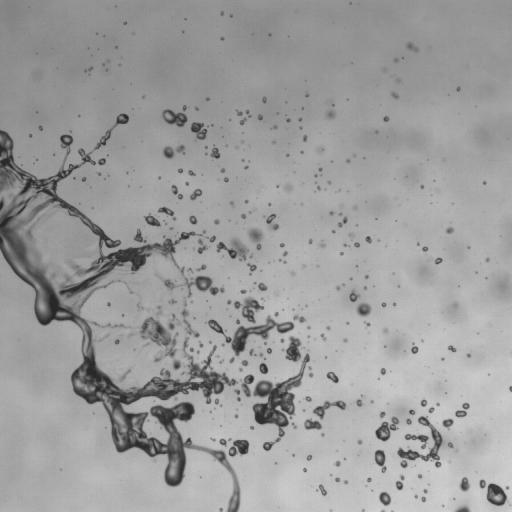droplet: (234, 336, 313, 450), (207, 296, 305, 363), (397, 416, 442, 468), (479, 479, 509, 506), (162, 105, 187, 126), (247, 227, 263, 249), (163, 145, 184, 158), (190, 122, 206, 139), (356, 302, 371, 316), (144, 213, 160, 226), (266, 214, 278, 231), (304, 419, 321, 429), (379, 491, 391, 505), (197, 239, 208, 253), (459, 477, 470, 491), (326, 372, 338, 383), (442, 418, 453, 429), (190, 189, 202, 199), (211, 146, 220, 158), (349, 291, 359, 301), (259, 362, 268, 373), (317, 484, 326, 495), (407, 42, 417, 51), (247, 263, 256, 273), (326, 110, 335, 119), (258, 282, 267, 291), (284, 183, 292, 192), (219, 438, 228, 446), (189, 216, 197, 224), (411, 344, 418, 353), (434, 257, 442, 264), (448, 345, 456, 352), (420, 398, 427, 406), (207, 236, 215, 242), (391, 92, 398, 98), (446, 227, 453, 233), (169, 298, 176, 304), (249, 349, 255, 356), (241, 360, 248, 366), (214, 398, 220, 405), (356, 399, 362, 406), (379, 411, 385, 418), (240, 118, 246, 124), (317, 147, 323, 153), (365, 236, 371, 242), (321, 333, 326, 340), (304, 396, 311, 401), (236, 110, 242, 115), (245, 110, 250, 116), (188, 170, 194, 175), (319, 242, 324, 248), (138, 303, 143, 309), (380, 368, 385, 374), (428, 407, 434, 412), (406, 418, 411, 424), (334, 461, 340, 466), (383, 116, 388, 121), (214, 219, 219, 224), (354, 242, 359, 247), (422, 246, 427, 251), (381, 302, 386, 307), (383, 328, 388, 333), (409, 409, 414, 414), (357, 439, 362, 444), (448, 442, 453, 447), (306, 455, 311, 460), (267, 348, 271, 354), (87, 67, 92, 71), (262, 97, 266, 102), (38, 125, 42, 130), (272, 125, 277, 129), (224, 177, 228, 182), (283, 251, 287, 256), (365, 322, 370, 326), (115, 339, 119, 344), (199, 342, 203, 347), (335, 477, 340, 481), (367, 477, 371, 482), (421, 496, 425, 501), (258, 115, 262, 119), (286, 118, 290, 122), (178, 169, 182, 173), (329, 211, 333, 215), (241, 214, 245, 218), (308, 239, 312, 243), (188, 268, 192, 272), (336, 286, 340, 290), (241, 289, 245, 293), (274, 312, 278, 316), (280, 338, 284, 342), (343, 338, 347, 342), (234, 414, 238, 418), (423, 489, 427, 493), (303, 135, 306, 140), (128, 333, 133, 336), (396, 79, 400, 82), (456, 87, 460, 90), (221, 168, 224, 172), (82, 177, 86, 180), (317, 186, 320, 190), (485, 258, 489, 261), (129, 289, 132, 293), (326, 326, 330, 329), (259, 353, 263, 356), (467, 353, 470, 357), (239, 367, 242, 371), (303, 468, 306, 472), (509, 386, 511, 391), (394, 58, 397, 61), (346, 159, 349, 162), (244, 165, 247, 168), (97, 172, 100, 175), (483, 181, 486, 184), (420, 185, 423, 188), (230, 202, 233, 205), (332, 230, 335, 233), (349, 233, 352, 236), (280, 243, 283, 246), (365, 275, 368, 278), (219, 360, 222, 363), (211, 438, 214, 441), (344, 480, 347, 483), (381, 509, 385, 511), (221, 37, 223, 40), (305, 94, 308, 96), (319, 168, 321, 171), (185, 182, 188, 184), (245, 200, 247, 203), (354, 206, 356, 209), (344, 244, 347, 246), (302, 265, 305, 267), (292, 272, 294, 275), (107, 303, 110, 305), (393, 303, 396, 305), (307, 326, 310, 328), (441, 358, 444, 360), (436, 403, 439, 405), (251, 426, 253, 429), (418, 475, 421, 477), (414, 495, 417, 497), (221, 12, 223, 14), (207, 98, 209, 100), (331, 103, 333, 105), (299, 118, 301, 120), (375, 130, 377, 132), (29, 134, 31, 136), (328, 181, 330, 183), (268, 203, 270, 205), (339, 213, 341, 215), (340, 252, 342, 254), (454, 303, 456, 305), (197, 351, 199, 353)
ligament: (0, 130, 246, 511), (93, 113, 128, 150), (216, 237, 253, 261), (313, 400, 346, 419), (375, 417, 398, 441), (405, 434, 428, 449), (374, 449, 386, 472), (157, 206, 175, 219), (455, 403, 469, 418), (171, 185, 182, 199), (395, 475, 404, 490), (454, 505, 471, 511), (337, 217, 347, 227), (197, 264, 205, 271), (198, 230, 205, 237), (329, 510, 332, 511), (361, 510, 364, 511)
